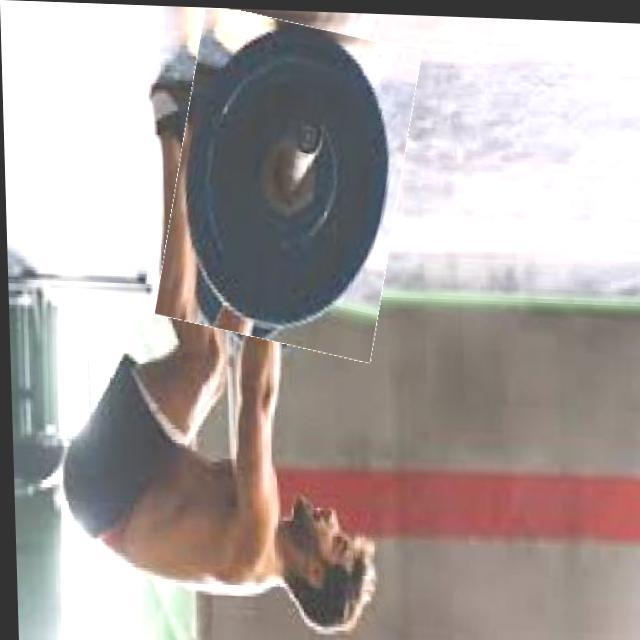barbell: (161, 10, 415, 353)
